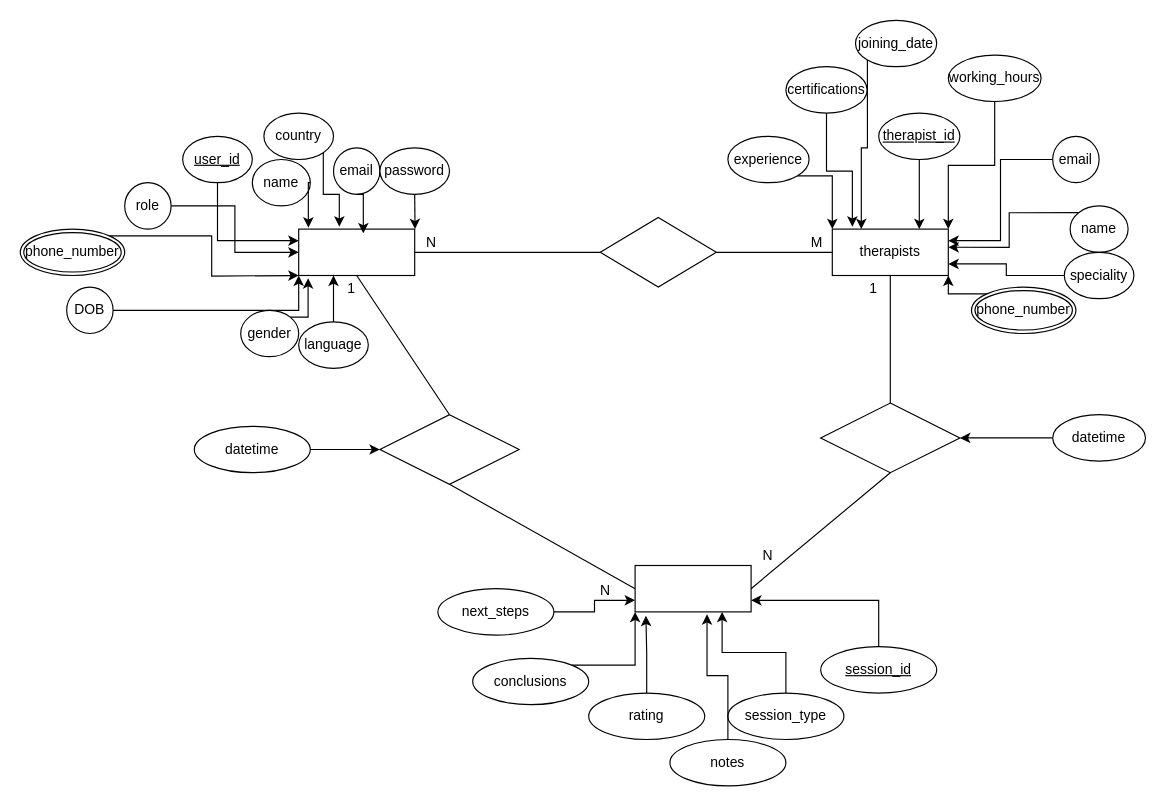
Some shapes in this 1166 by 806 pixel diagram are drawn without their labels. Each missing label, with the centre of its shape:
"give" belongs at point 890,437.
"reserve" belongs at point 657,251.
"sessions" belongs at point 692,588.
"take" belongs at point 449,449.
"users" belongs at point 356,252.
